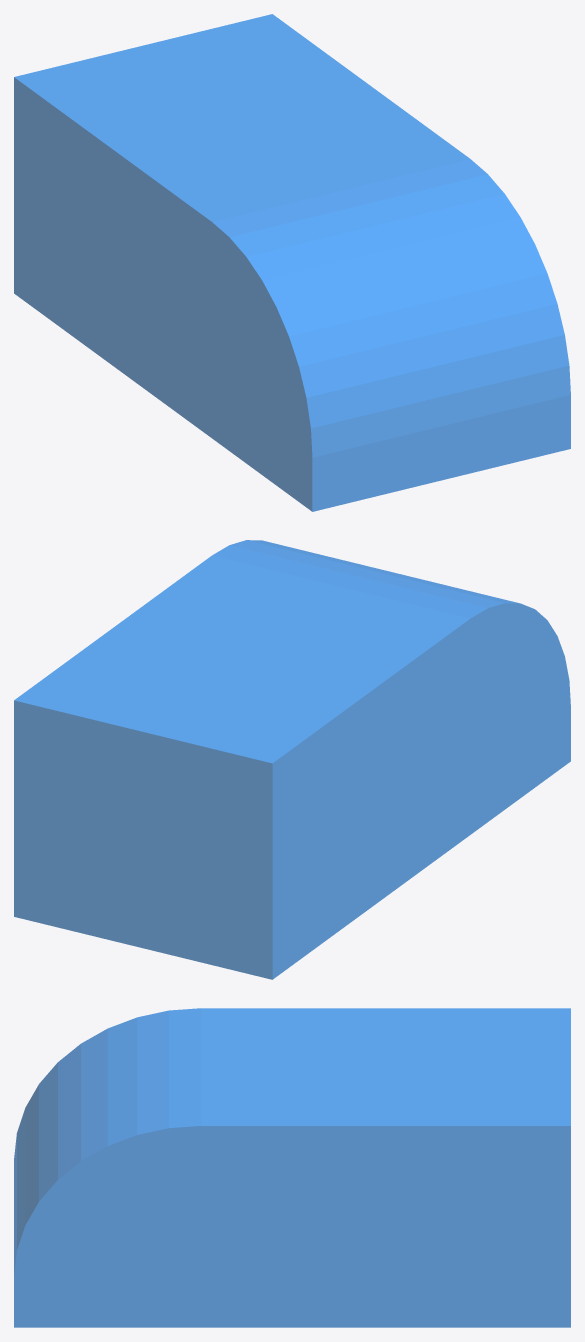
3 renders of one model, top to bottom at view 1: azimuth 30°, elevation 25°; view 2: azimuth 150°, elevation 25°; view 3: azimuth 270°, elevation 25°, orthographic. The views are drawn at different scales.
Visible parts, largest first — view 1: Cube; view 2: Cube; view 3: Cube.
Boxes of the visible parts, x1,y1,x2,y2 form: Cube: (14, 14, 570, 511); Cube: (14, 540, 570, 979); Cube: (14, 1008, 570, 1327).
Bounding box in the file's own units: 2 × 1.6 × 4.
